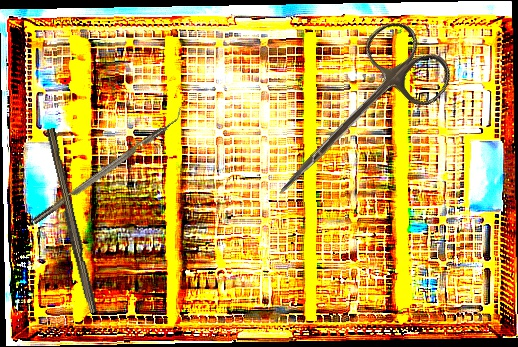Chopper: (27, 105, 188, 225)
Iris Scissors: (248, 11, 461, 229)
Scalpel Handle: (40, 127, 101, 315)
